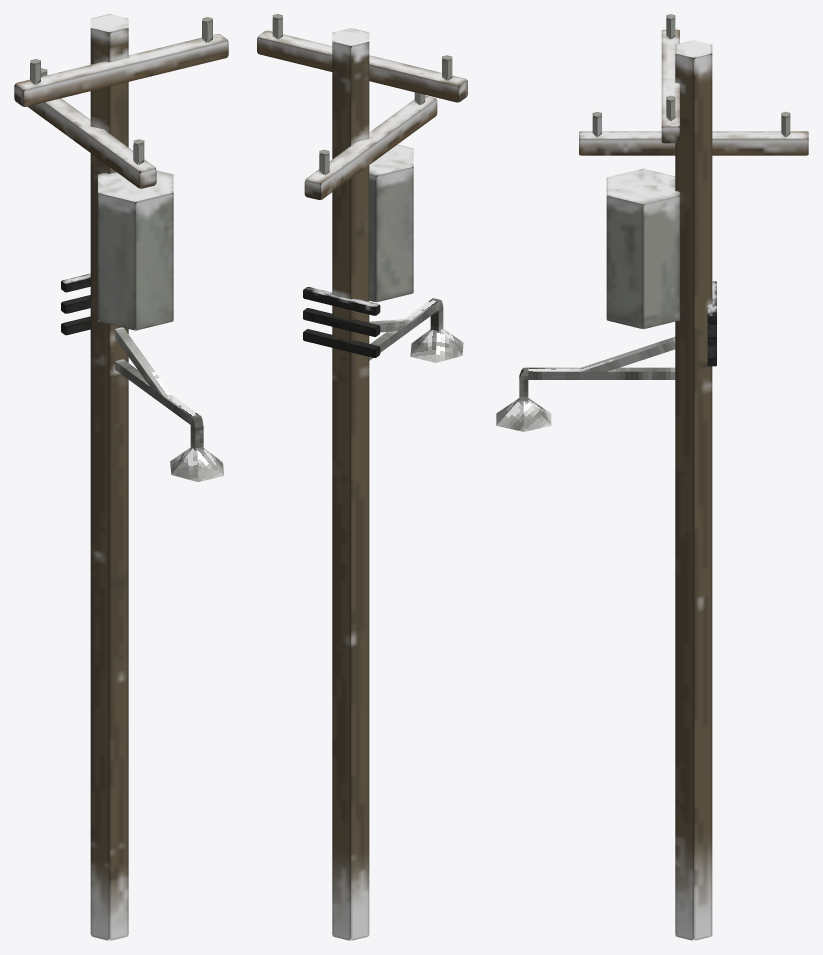
Rendered from streetlight.obj.
3 renders of one model, left to right at view 1: azimuth 30°, elevation 25°; view 2: azimuth 150°, elevation 25°; view 3: azimuth 270°, elevation 25°, orthographic. The views are drawn at different scales.
Parts seen in each view (by area): view 1: pole, cuboid, box, cone, cylinder; view 2: pole, cuboid, box, cone, cylinder; view 3: pole, box, cuboid, cone, cylinder.
Boxes of the visible parts, x1,y1,x2,y2 form: pole: (90, 14, 128, 940); cuboid: (14, 34, 228, 451); box: (98, 170, 173, 330); cone: (170, 447, 224, 481); cylinder: (30, 17, 212, 164); pole: (332, 28, 369, 940); cuboid: (257, 30, 467, 360); box: (369, 144, 413, 302); cone: (410, 329, 463, 362); cylinder: (272, 14, 452, 174); pole: (675, 40, 712, 940); box: (606, 168, 679, 329); cuboid: (519, 29, 808, 402); cone: (496, 398, 551, 431); cylinder: (592, 14, 790, 137).
Size of the model in its own units: 0.7812 by 3.31 by 1.06.
4 materials, 4 textured.
